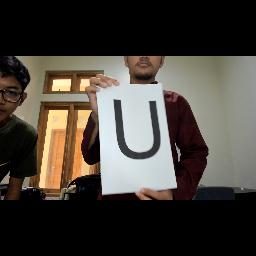u: (106, 95, 174, 165)
